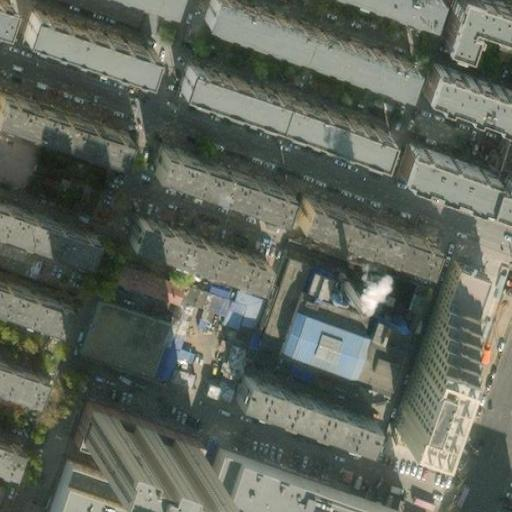building: (199, 0, 416, 96), (173, 67, 385, 164), (53, 457, 357, 512), (289, 253, 424, 353), (273, 309, 402, 395), (237, 381, 380, 456), (15, 8, 153, 85), (121, 204, 262, 278), (304, 192, 444, 265), (149, 138, 287, 208), (0, 90, 122, 161), (76, 297, 178, 381), (395, 147, 512, 217), (70, 412, 185, 482), (0, 202, 88, 261), (422, 80, 512, 136), (440, 0, 512, 62), (106, 260, 183, 310), (385, 365, 438, 437), (0, 280, 65, 329), (220, 284, 265, 333), (181, 279, 233, 318), (435, 256, 478, 303), (0, 359, 45, 400), (422, 315, 458, 341), (408, 352, 444, 377), (413, 339, 448, 363), (431, 292, 466, 315), (418, 329, 453, 351), (427, 304, 461, 326), (0, 453, 18, 488), (0, 3, 15, 36)
